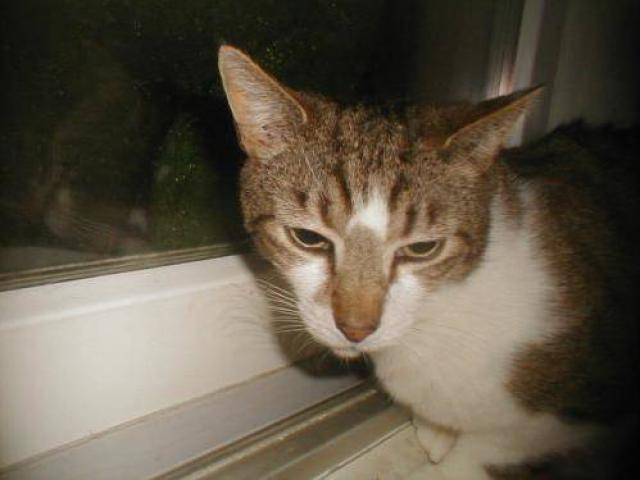cat: (209, 42, 636, 475)
